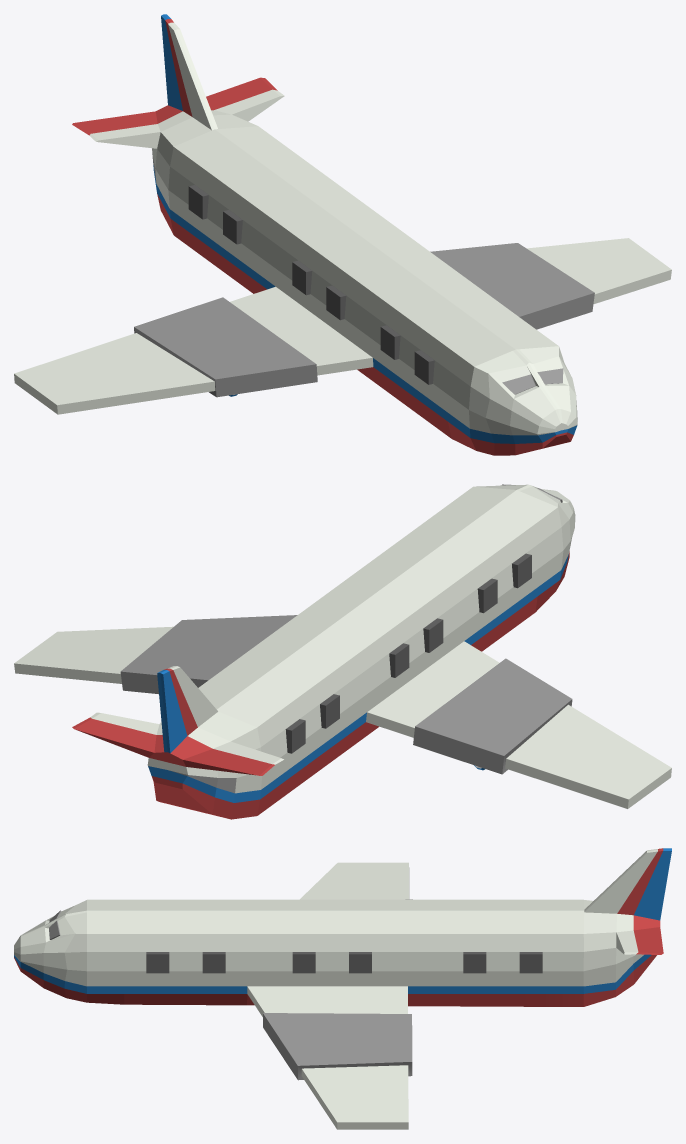
The picture shows the model from 3 angles, top to bottom: view 1: azimuth 30°, elevation 25°; view 2: azimuth 150°, elevation 25°; view 3: azimuth 270°, elevation 25°; orthographic projection. The views are drawn at different scales.
Visible parts, largest first — view 1: polySurface1; view 2: polySurface1; view 3: polySurface1.
Part boxes in pixels (x1,y1,x2,y2): polySurface1: (14,14,671,455); polySurface1: (14,484,671,819); polySurface1: (14,848,671,1129).
Size of the model in its own units: 7.25 by 2.16 by 8.14.
1 material, 1 textured.
